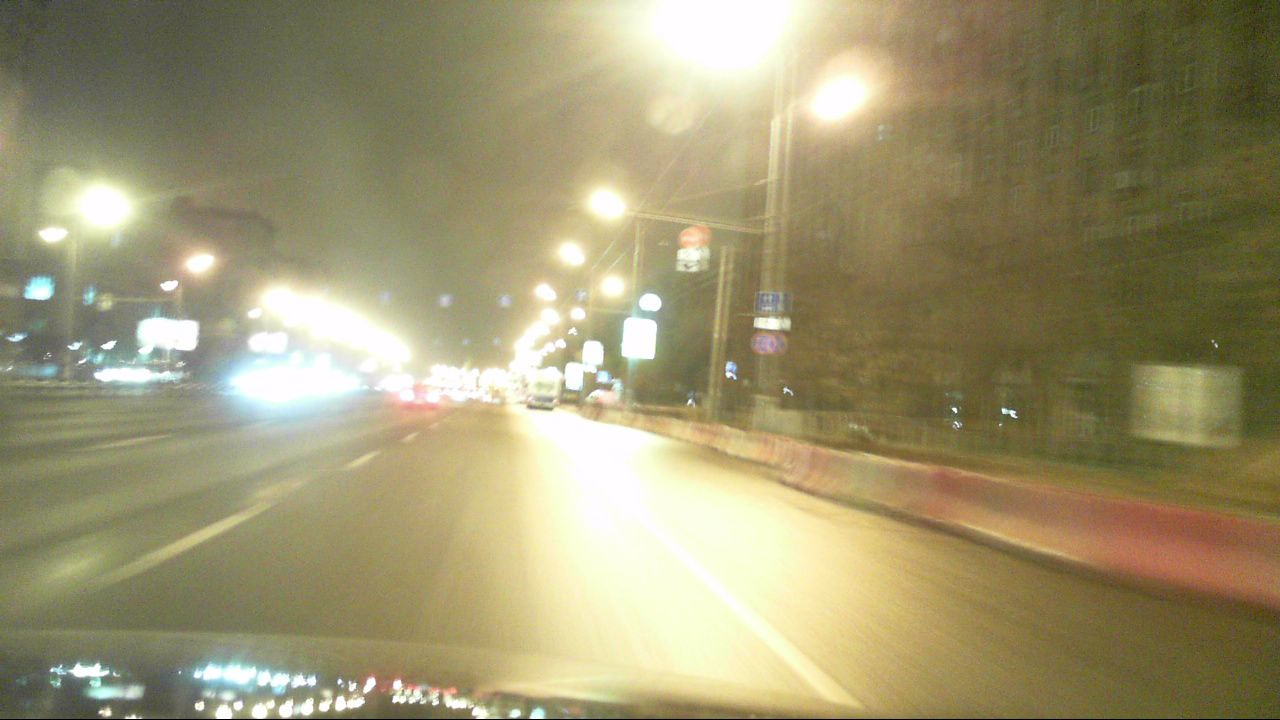No Parking: (751, 331, 776, 354)
